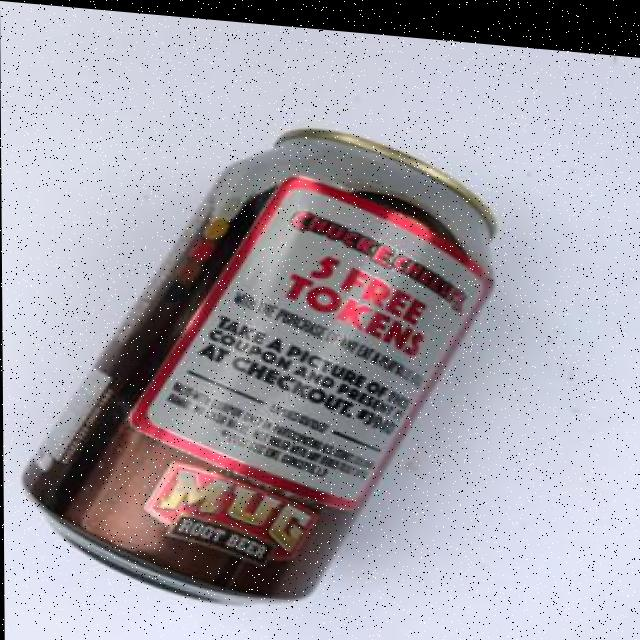metal: (13, 93, 504, 624)
